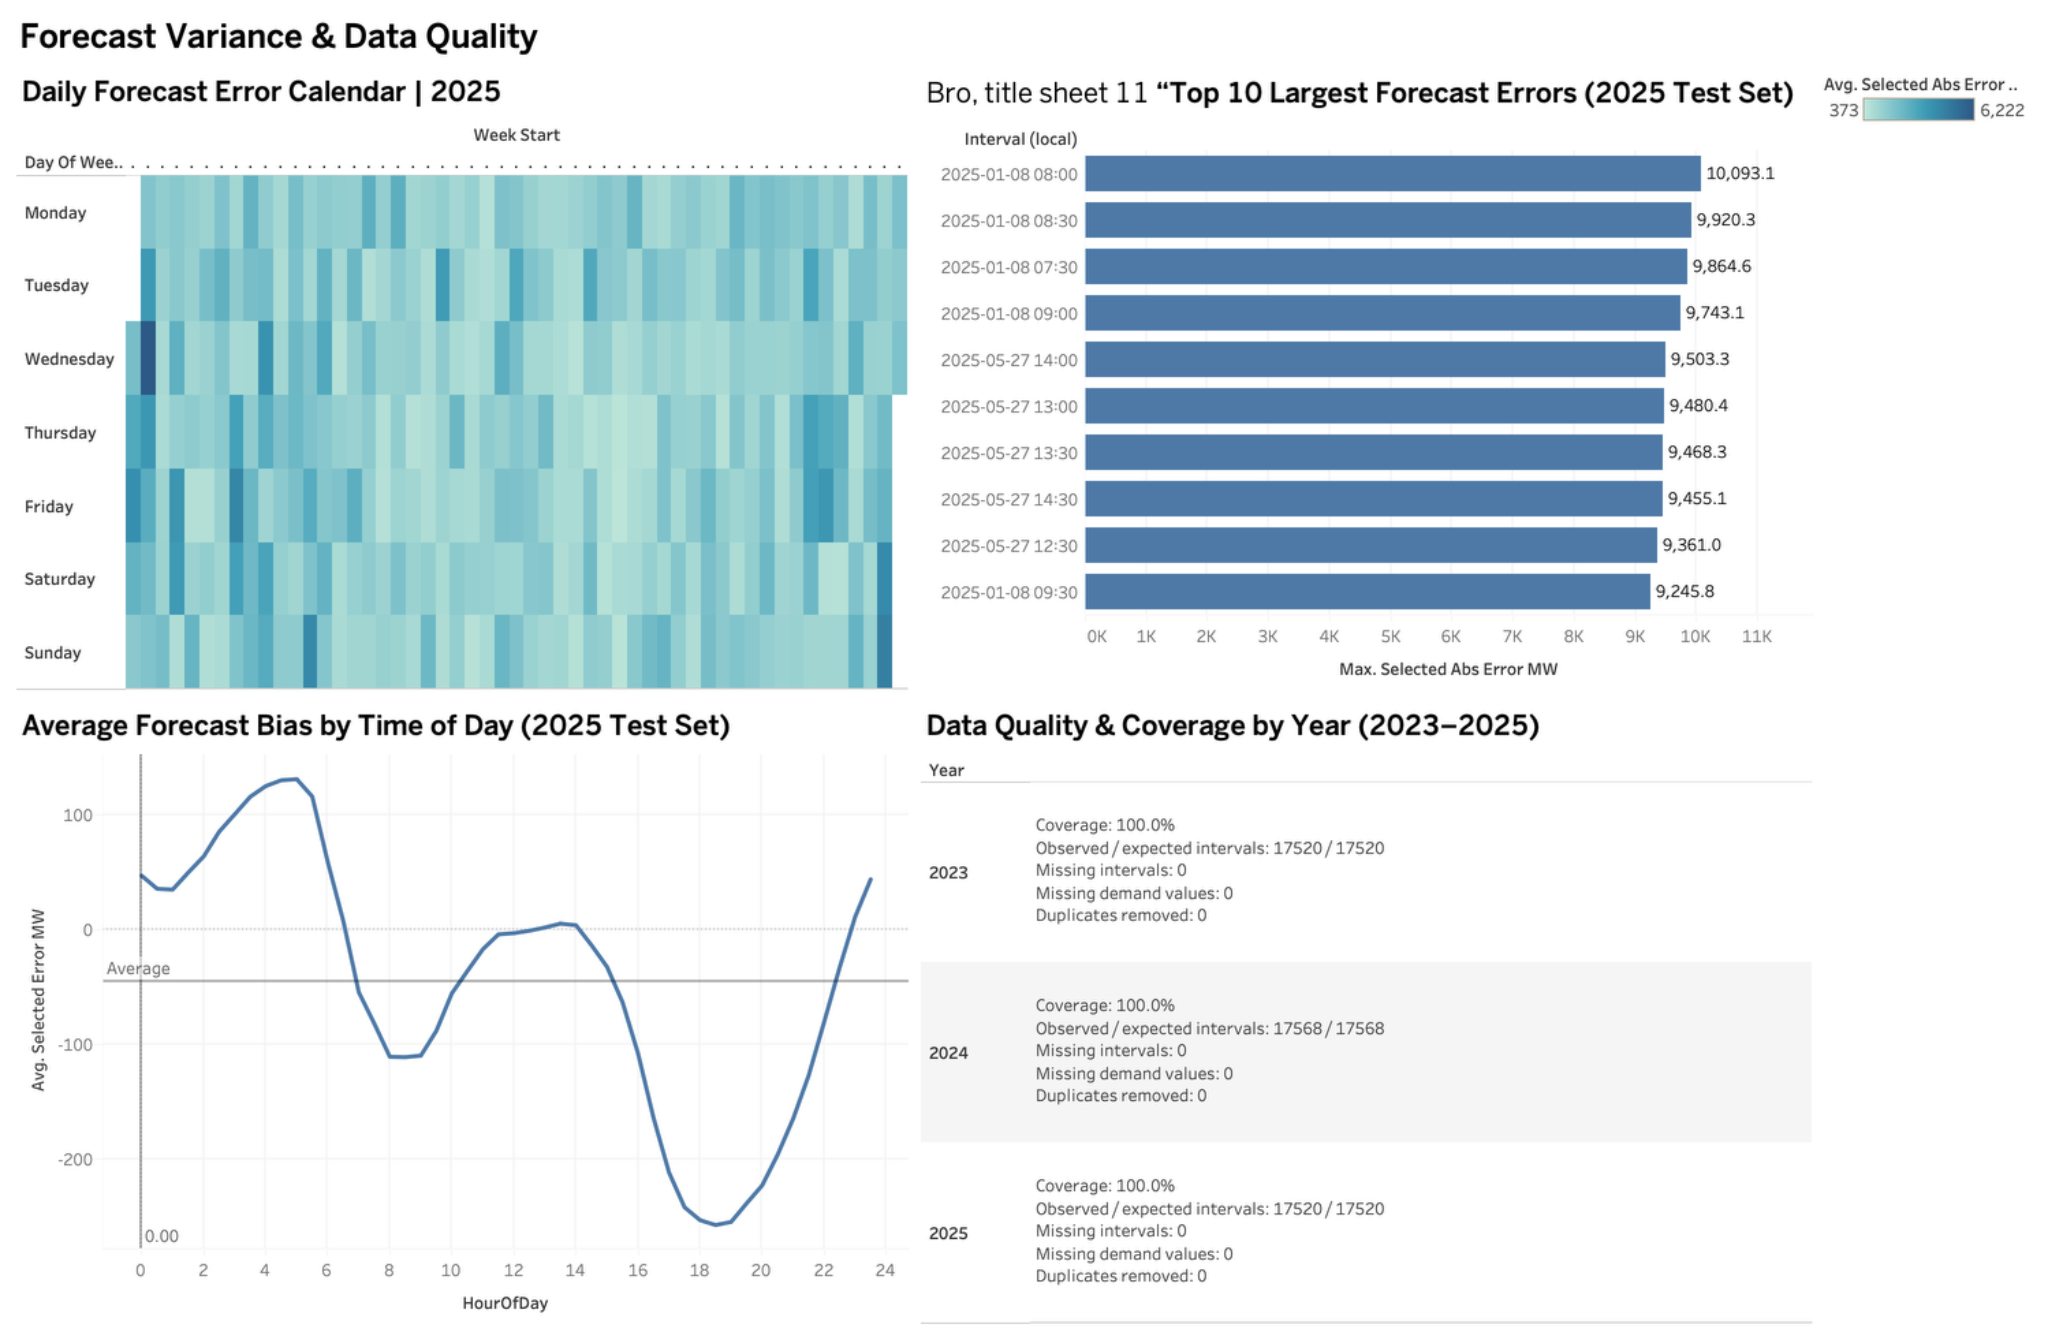

What the dashboard file says about the page in this screenshot:
{"tool":"tableau","page":{"name":"Dashboard 3","canvas":[1000,1000],"units":"permille","ordinal":2},"visuals":[{"type":"title","box":[5.3,8.2,989.3,37.7]},{"type":"worksheet","title":"10_Daily_Error_Calendar","mark":"Square","rows":["DayOfWeekName"],"cols":["WeekStart"],"box":[5.3,45.9,441.3,473]},{"type":"worksheet","title":"11_Largest_Errors","mark":"Bar","rows":["Calculation_3330610703683588"],"cols":["SelectedAbsErrorMW"],"box":[446.6,45.9,441.3,473]},{"type":"legend","title":"10_Daily_Error_Calendar","param":"[federated.105qbgy0u6fvoz1f01g780d50o2a].[avg:SelectedAbsErrorMW:qk]","box":[887.9,45.9,106.7,66.2]},{"type":"worksheet","title":"12_Forecast_Bias_By_Time","mark":"Line","rows":["SelectedErrorMW"],"cols":["HourOfDay"],"box":[5.3,518.9,441.3,473]},{"type":"worksheet","title":"13_Data_Quality_Coverage","mark":"Text","rows":["Year"],"box":[446.6,518.9,441.3,473]}]}

Visuals, with their boxes on the dashboard's canvas, which has no fixed pixel size, in thousandths of its width and height (x1, y1, x2, y2). These are canvas units, not pixel positions in the 2047x1340 screenshot, which may show the page scaled, cropped or inside an application window:
title: select_region(5, 8, 995, 46)
"10_Daily_Error_Calendar" worksheet (Square marks): select_region(5, 46, 447, 519)
"11_Largest_Errors" worksheet (Bar marks): select_region(447, 46, 888, 519)
"10_Daily_Error_Calendar" legend: select_region(888, 46, 995, 112)
"12_Forecast_Bias_By_Time" worksheet (Line marks): select_region(5, 519, 447, 992)
"13_Data_Quality_Coverage" worksheet (Text marks): select_region(447, 519, 888, 992)
